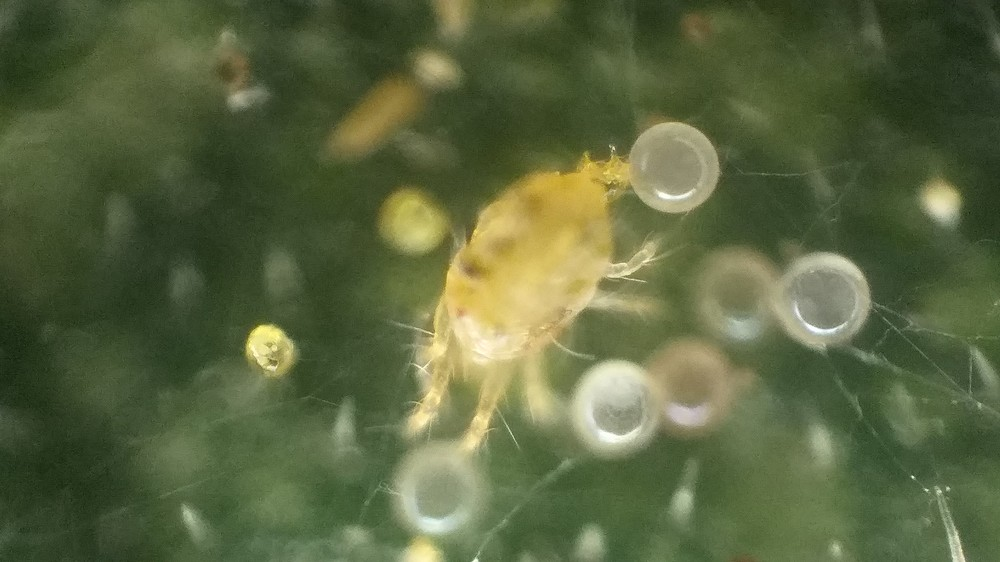Aracnido Rojo: (386, 137, 660, 466)
